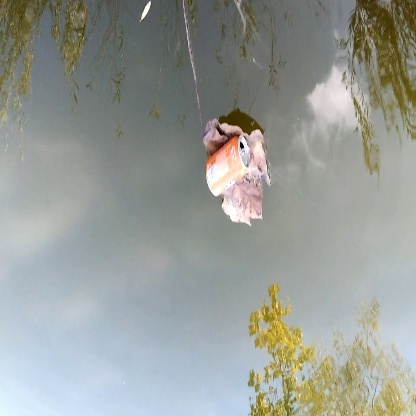bottle: (200, 131, 256, 195)
